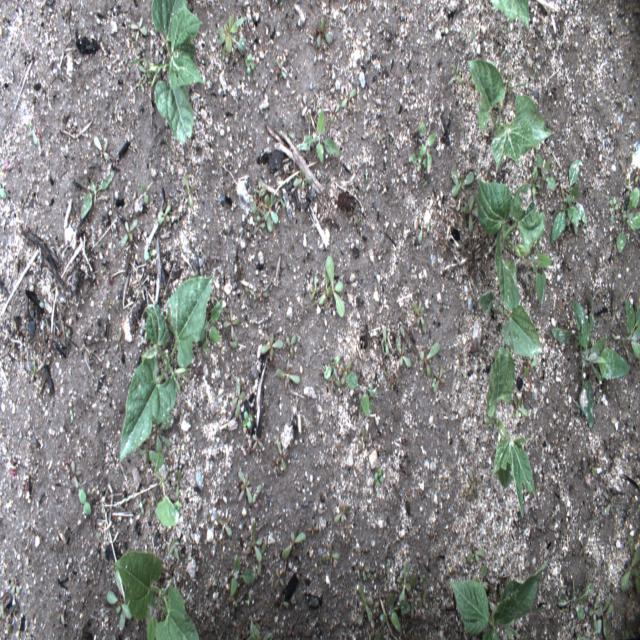crop: (119, 268, 213, 463), (131, 0, 206, 143), (467, 53, 553, 173), (477, 182, 551, 308), (486, 342, 537, 518), (111, 547, 200, 639), (448, 562, 548, 639), (479, 294, 542, 358), (486, 0, 530, 28)
weed: (551, 289, 630, 429), (551, 156, 588, 246), (298, 106, 342, 166), (149, 450, 182, 527), (610, 298, 639, 364), (319, 255, 347, 315), (616, 183, 639, 255), (105, 571, 132, 632), (80, 170, 114, 218), (376, 591, 411, 636), (557, 578, 594, 620), (411, 118, 437, 175), (201, 299, 224, 357), (218, 12, 246, 58), (620, 535, 639, 595), (228, 557, 256, 594), (149, 411, 174, 452), (450, 165, 476, 202), (396, 554, 415, 603), (280, 530, 307, 560), (535, 152, 556, 190), (356, 584, 374, 627), (419, 342, 441, 376), (322, 352, 342, 389), (315, 14, 333, 52), (260, 331, 284, 359), (263, 192, 279, 234), (246, 522, 263, 561), (339, 358, 360, 389), (463, 193, 478, 235), (247, 615, 272, 640), (358, 381, 374, 420), (601, 595, 615, 636), (231, 384, 246, 422), (274, 365, 302, 385), (396, 335, 412, 370), (222, 310, 242, 338), (409, 150, 429, 178), (292, 166, 313, 192), (92, 135, 110, 163), (237, 471, 251, 507), (525, 165, 540, 198), (129, 16, 148, 42), (466, 542, 487, 565), (0, 600, 13, 636), (78, 487, 93, 518), (514, 394, 530, 423), (120, 220, 136, 248), (432, 365, 447, 394), (603, 488, 617, 519), (412, 300, 426, 331), (183, 172, 194, 211), (276, 439, 288, 474), (341, 86, 358, 110), (589, 595, 602, 625), (383, 366, 399, 390), (320, 549, 341, 567), (418, 219, 432, 246), (113, 324, 124, 357), (284, 334, 298, 359), (215, 518, 234, 536), (416, 585, 429, 611), (156, 206, 172, 227), (357, 424, 368, 454), (523, 359, 538, 381), (167, 537, 180, 562), (333, 504, 350, 523), (10, 578, 21, 607), (344, 206, 359, 226), (450, 62, 462, 87), (468, 467, 478, 497), (399, 324, 409, 353), (135, 493, 147, 517), (251, 482, 263, 506), (257, 542, 266, 574), (96, 530, 110, 550), (310, 275, 320, 302), (308, 518, 320, 540), (373, 465, 385, 487), (276, 56, 287, 80), (29, 353, 38, 382), (174, 471, 183, 500), (140, 180, 150, 206), (28, 121, 38, 147), (608, 196, 618, 222), (70, 458, 78, 490), (381, 326, 389, 358), (480, 561, 489, 589), (242, 409, 253, 431), (329, 102, 340, 124), (254, 214, 265, 236), (142, 246, 154, 265), (279, 592, 290, 612), (272, 457, 282, 478), (252, 433, 265, 449), (244, 55, 254, 75), (254, 180, 266, 196), (276, 567, 284, 589), (588, 457, 596, 479), (456, 344, 464, 366), (361, 565, 372, 580), (606, 579, 616, 595), (439, 202, 445, 228), (0, 181, 7, 203), (250, 191, 257, 213), (255, 290, 269, 300), (282, 130, 296, 140), (232, 595, 242, 609), (1, 213, 7, 236), (68, 406, 75, 425), (57, 612, 66, 626), (244, 283, 253, 297), (481, 342, 487, 362), (470, 22, 476, 42), (460, 486, 468, 501), (419, 571, 426, 586), (229, 338, 239, 348), (279, 194, 286, 208), (364, 166, 369, 184), (247, 592, 252, 608), (621, 627, 629, 637), (386, 556, 392, 569), (113, 466, 120, 477), (422, 178, 428, 188), (65, 329, 70, 339), (17, 623, 21, 635), (430, 379, 436, 387)
